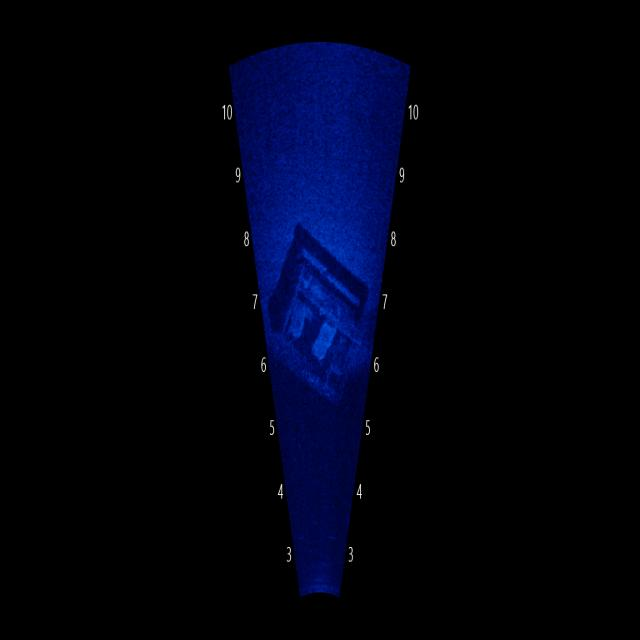square: (262, 211, 368, 420)
